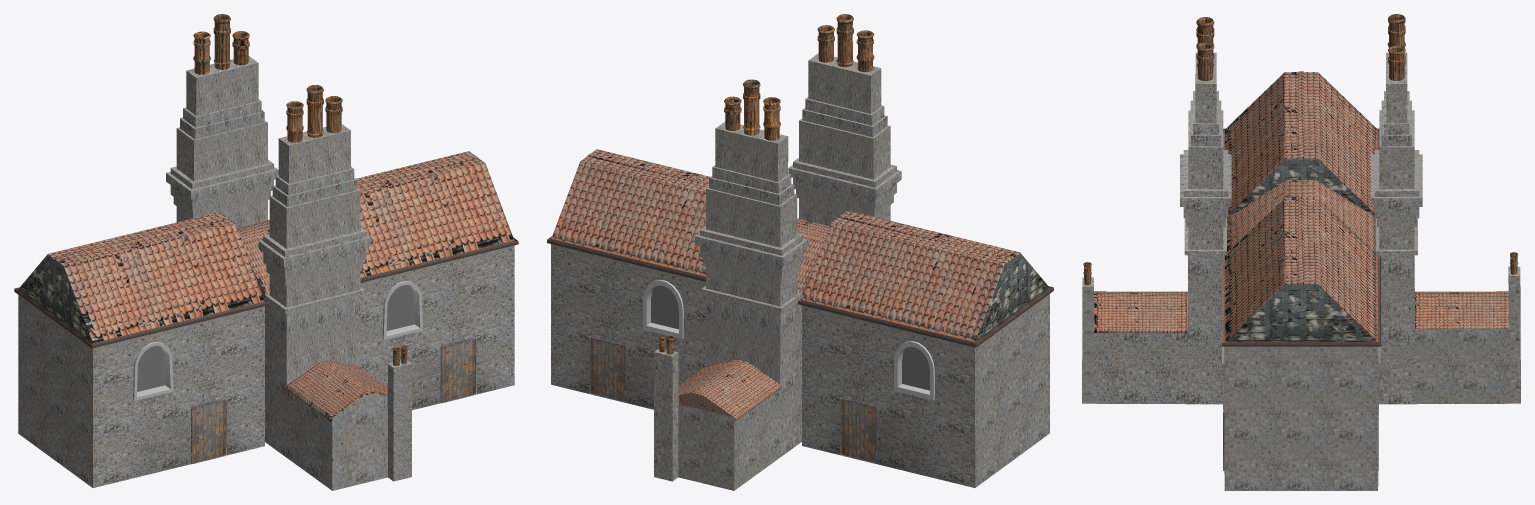
File: Slums Detatched.fbx
3 views of the same model, side by side, from view 1: azimuth 30°, elevation 25°; view 2: azimuth 150°, elevation 25°; view 3: azimuth 270°, elevation 25° (orthographic). The views are drawn at different scales.
Parts seen in each view (by area): view 1: Slum House 2, Chimney_SlumHouse, Slum_House, Front Outhouse Frame; view 2: Slum House 2, Chimney_SlumHouse, Slum_House, Back Outhouse Roof; view 3: Slum_House, Chimney_SlumHouse, Slum House 2, Back Outhouse Roof, Front Outhouse Frame.
Boxes of the visible parts, x1,y1,x2,y2 form: Slum House 2: [14, 212, 268, 487]; Chimney_SlumHouse: [166, 14, 371, 457]; Slum_House: [356, 151, 518, 410]; Front Outhouse Frame: [285, 345, 411, 490]; Slum House 2: [798, 210, 1053, 487]; Chimney_SlumHouse: [695, 14, 901, 457]; Slum_House: [547, 149, 709, 409]; Back Outhouse Roof: [654, 334, 781, 490]; Slum_House: [1221, 196, 1380, 490]; Chimney_SlumHouse: [1180, 14, 1422, 404]; Slum House 2: [1223, 71, 1379, 215]; Back Outhouse Roof: [1415, 252, 1520, 404]; Front Outhouse Frame: [1082, 262, 1187, 404].
Bounding box in the file's own units: 22.82 × 18.31 × 19.74.
